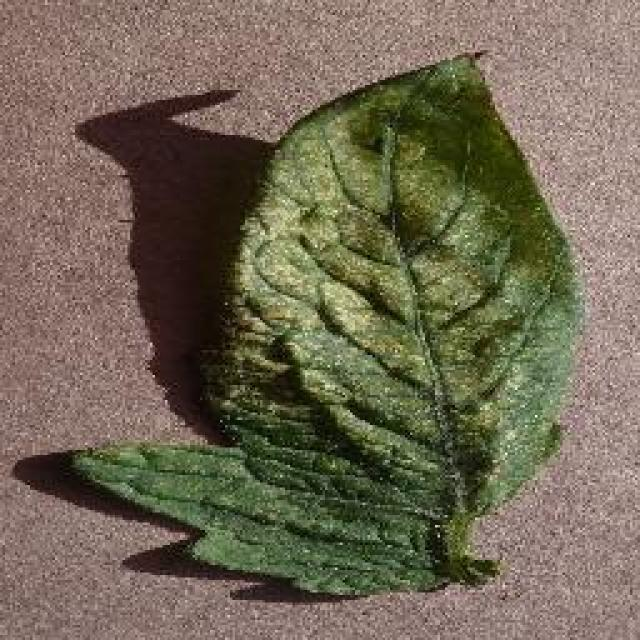Tomato spider mites leaf: (72, 44, 585, 598)
